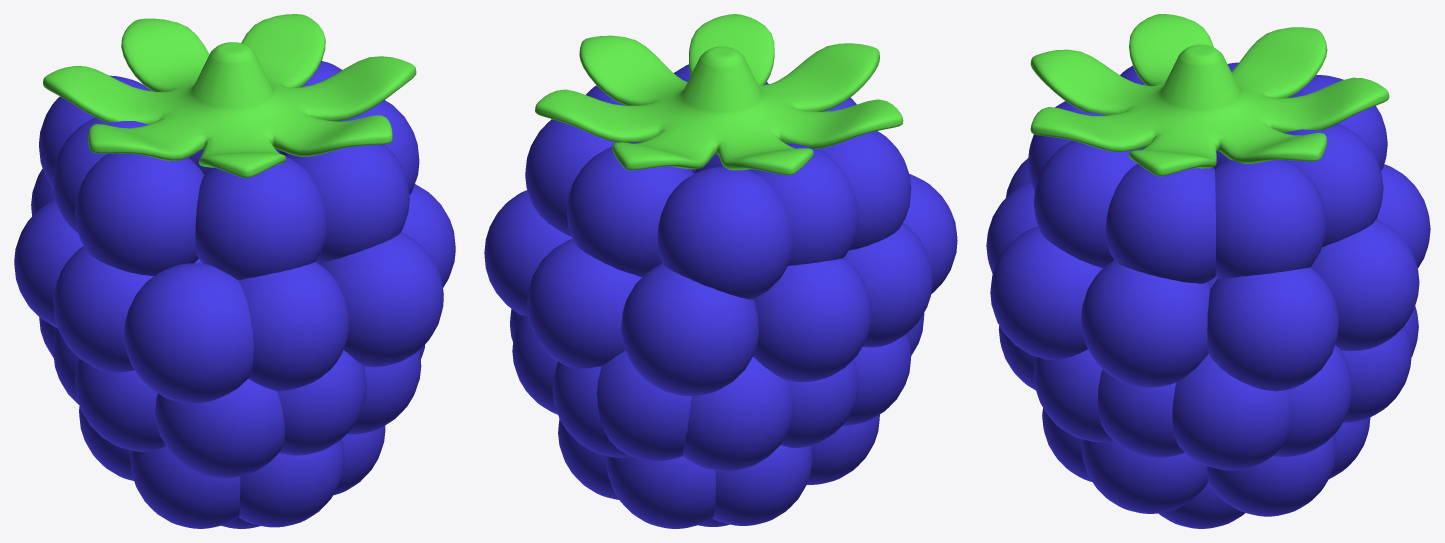
The model's file is bogurtlen.fbx.
The picture shows the model from 3 angles, left to right: view 1: azimuth 30°, elevation 25°; view 2: azimuth 150°, elevation 25°; view 3: azimuth 270°, elevation 25°; orthographic projection.
Parts seen in each view (by area): view 1: Sphere.052; view 2: Sphere.052; view 3: Sphere.052.
Boxes of the visible parts, bbox=[...] form: Sphere.052: bbox=[14, 14, 455, 528]; Sphere.052: bbox=[484, 14, 957, 528]; Sphere.052: bbox=[986, 14, 1430, 528].
Bounding box in the file's own units: 74.57 × 88.65 × 76.22.
